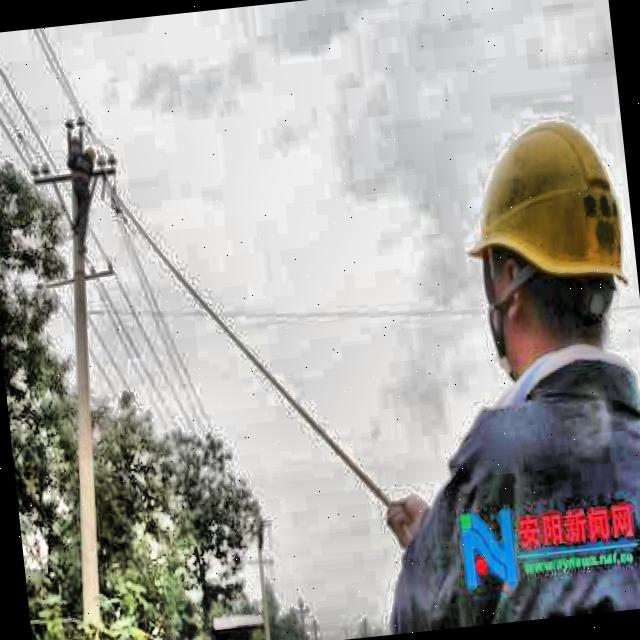helmet: (426, 75, 640, 399)
